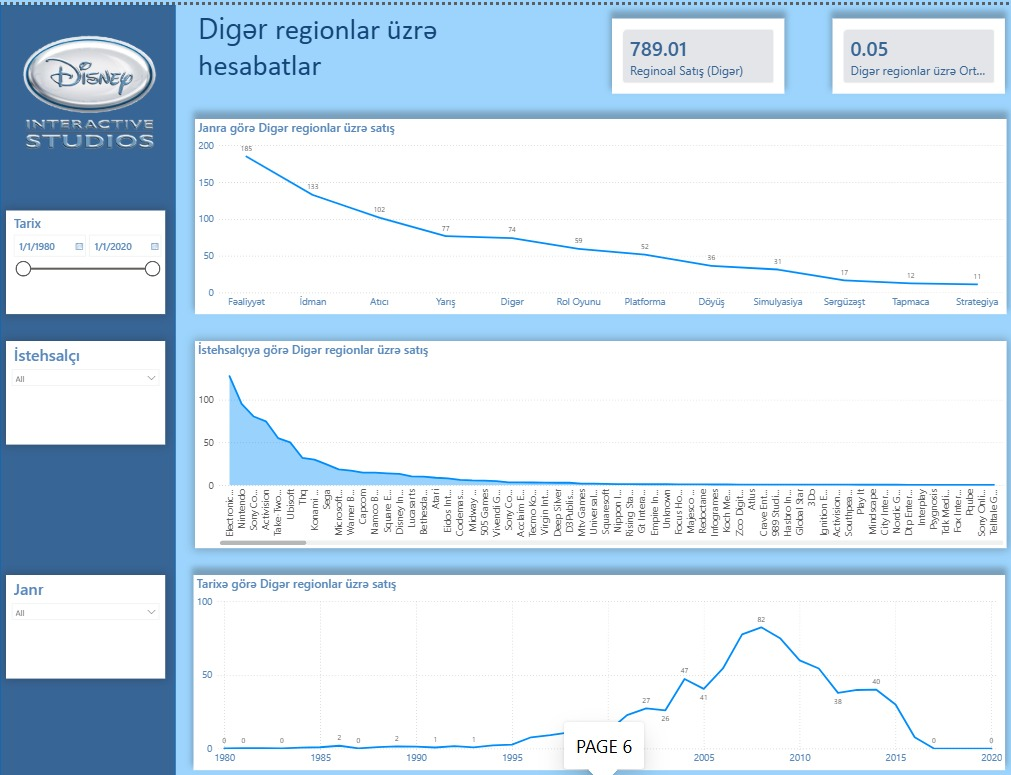

The page's visual inventory and layout, read from the dashboard file:
{"tool":"powerbi","page":{"name":"PAGE 6","canvas":[1700,1300],"ordinal":5},"visuals":[{"type":"shape","box":[0,0,292.5,1300],"z":0},{"type":"image","box":[25,0,250,295],"z":1000},{"type":"lineChart","title":"Tarixə görə Digər regionlar üzrə satış","fields":{"Y":["Sheet 2.Reginoal Satış (Digər)"],"Category":["Sheet 2.Tarix"]},"box":[322.5,950,1352.5,325],"z":2000},{"type":"areaChart","title":"İstehsalçıya görə Digər regionlar üzrə satış","fields":{"Category":["Sheet 2.İstehsalçı"],"Y":["Sheet 2.Reginoal Satış (Digər)"]},"box":[325,560,1352.5,345],"z":3000},{"type":"lineChart","title":"Janra görə Digər regionlar üzrə satış","fields":{"Y":["Sheet 2.Reginoal Satış (Digər)"],"Category":["Sheet 2.Janr"]},"box":[325,190,1352.5,325],"z":4000},{"type":"cardVisual","fields":{"Data":["Sheet 2.Reginoal Satış (Digər)"]},"box":[1020,22.5,287.5,125],"z":5000},{"type":"cardVisual","fields":{"Data":["Sheet 2.Digər regionlar üzrə Orta Satış"]},"box":[1387.5,22.5,287.5,125],"z":6000},{"type":"slicer","fields":{"Values":["Sheet 2.Tarix"]},"box":[10,342.5,265,172.5],"z":7000},{"type":"slicer","fields":{"Values":["Sheet 2.İstehsalçı"]},"box":[10,560,265,172.5],"z":8000},{"type":"slicer","fields":{"Values":["Sheet 2.Janr"]},"box":[10,950,265,172.5],"z":9000},{"type":"textbox","box":[325,0,497.5,190],"z":10000}]}

Visuals, with their boxes on the page's 1700x1300 design canvas (x1, y1, x2, y2). These are canvas units, not pixel positions in the 1011x775 screenshot, which may show the page scaled, cropped or inside an application window:
shape: 0,0,292,1300
image: 25,0,275,295
"Tarixə görə Digər regionlar üzrə satış" lineChart: 322,950,1675,1275
"İstehsalçıya görə Digər regionlar üzrə satış" areaChart: 325,560,1678,905
"Janra görə Digər regionlar üzrə satış" lineChart: 325,190,1678,515
cardVisual - Sheet 2.Reginoal Satış (Digər): 1020,22,1308,148
cardVisual - Sheet 2.Digər regionlar üzrə Orta Satış: 1388,22,1675,148
slicer - Sheet 2.Tarix: 10,342,275,515
slicer - Sheet 2.İstehsalçı: 10,560,275,732
slicer - Sheet 2.Janr: 10,950,275,1122
textbox: 325,0,822,190
